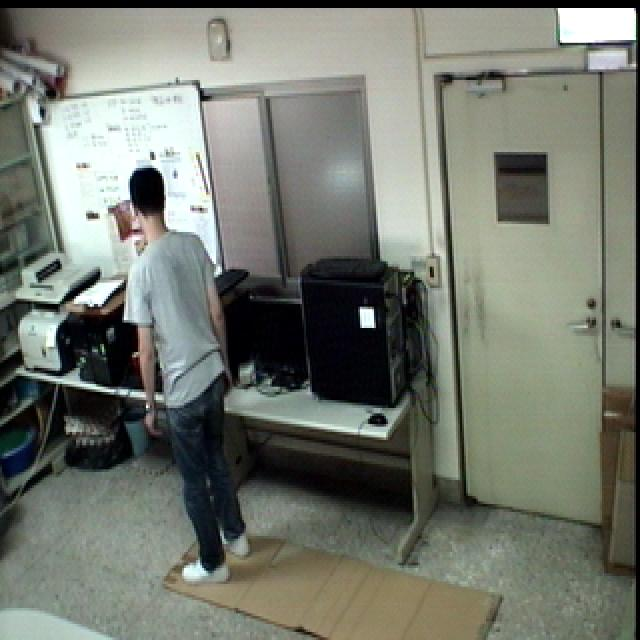stand: (122, 162, 258, 582)
